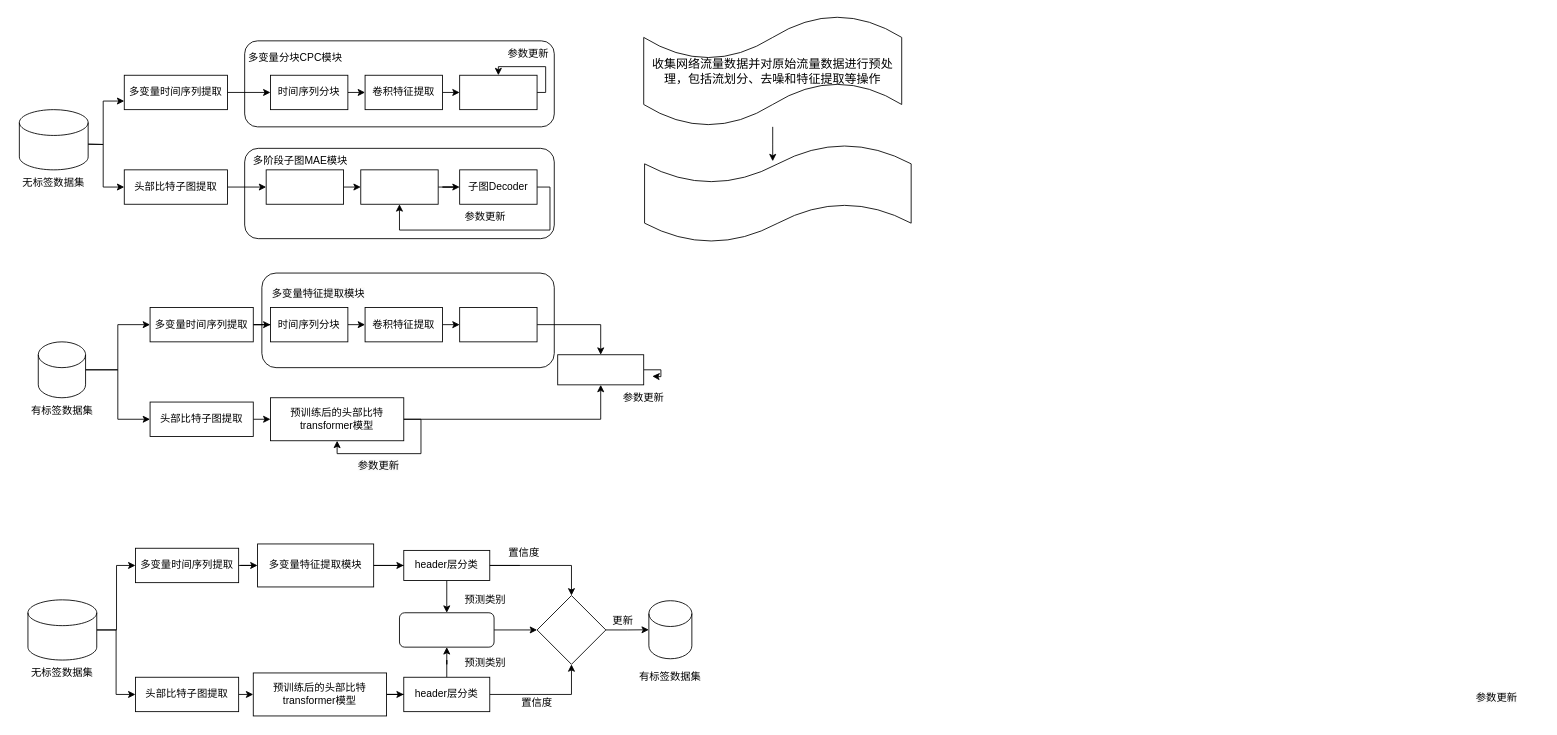
Image size: 1557x735. Some labels were removed from this diagram. The shapes that lost their labels are listed below. From the top down, each one's centre as x and y in pixels, then its label:
[498,92]: 全局上下文特征优化
[304,186]: 多阶段子图掩蔽
[399,186]: 头部比特transformer模型
[777,193]: 使用多变量分块CPC模块在基础上进行
[498,324]: 预训练后的全局上下文特征优化
[600,369]: 融合分类模块
[446,629]: 动态置信度阈值计算
[571,629]: 是否添加 伪标签
